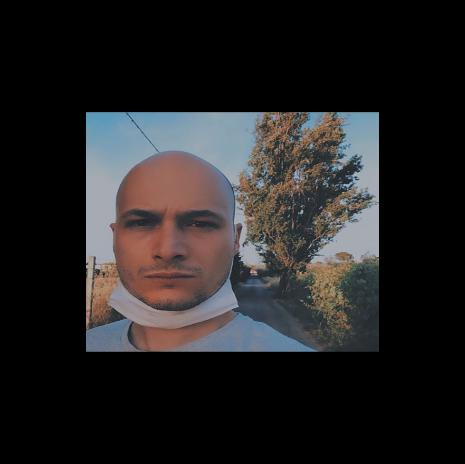mask_weared_incorrect: (118, 195, 236, 324)
